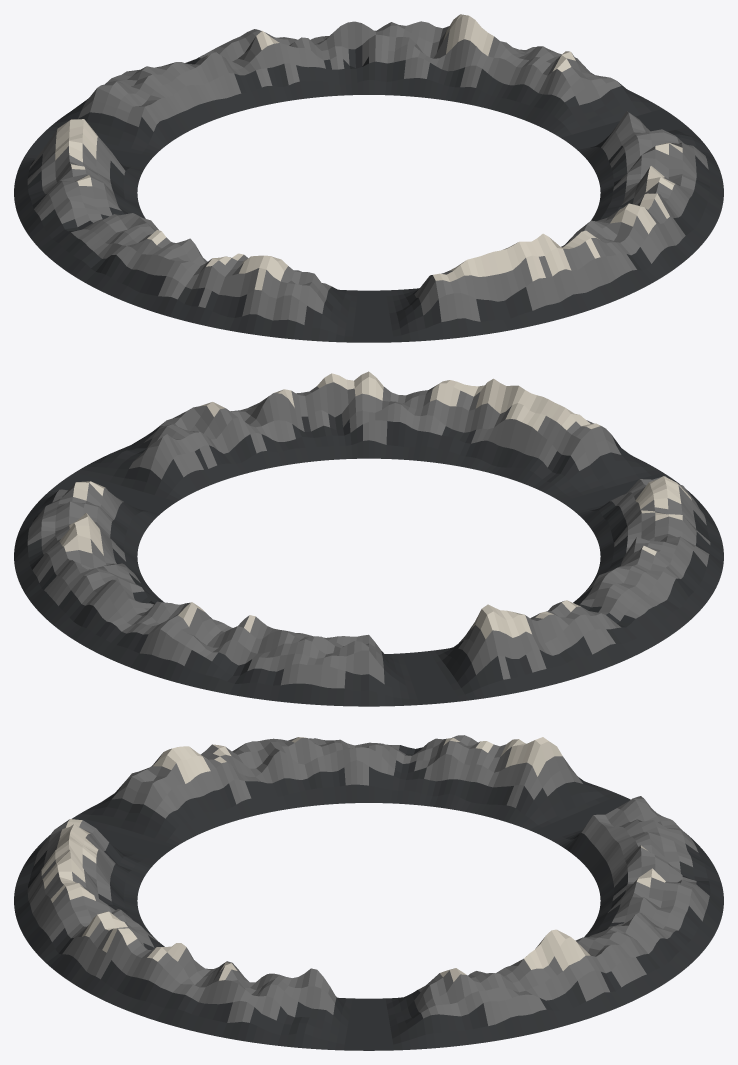
Rendered from mountain-range.glb.
The picture shows the model from 3 angles, top to bottom: view 1: azimuth 30°, elevation 25°; view 2: azimuth 150°, elevation 25°; view 3: azimuth 270°, elevation 25°; orthographic projection.
Parts seen in each view (by area): view 1: mountain-range; view 2: mountain-range; view 3: mountain-range.
Boxes of the visible parts, x1,y1,x2,y2 form: mountain-range: [14, 14, 723, 342]; mountain-range: [14, 371, 723, 706]; mountain-range: [14, 735, 723, 1050].
Size of the model in its own units: 230 by 22.81 by 230.
